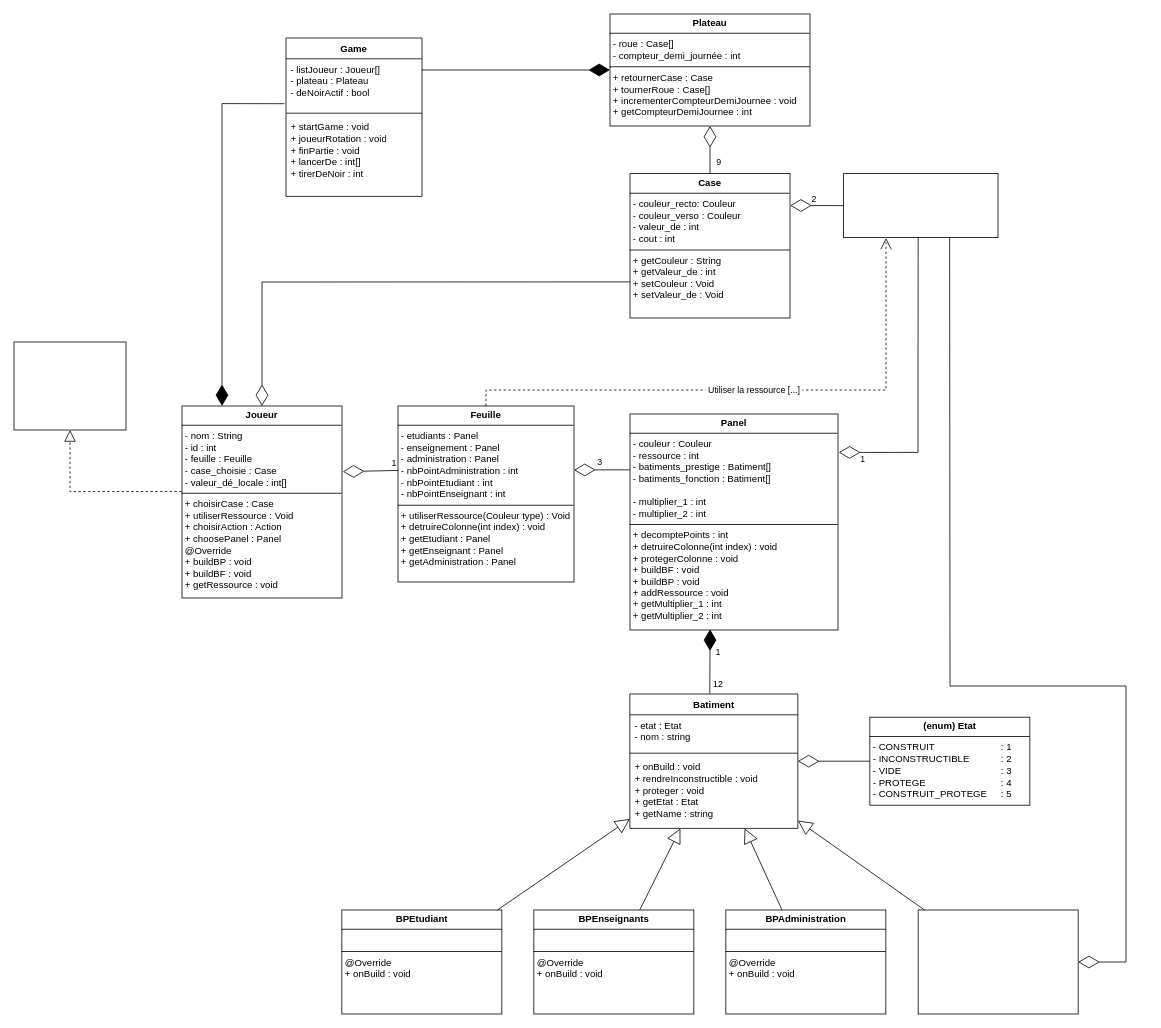
This 1161x1028 diagram has some shape labels left out. Here are the shapes that lost their labels. From the top down, the centre of each, then its label:
pixel 920 205: (enum) Couleur - ROUGE : 1 - JAUNE : 2 - BLANC : 3
pixel 69 385: Action + buildBP :void + buildBF : void + getRessource : void
pixel 997 961: BatimentFonction - couleur : Couleur @Override + onBuild : void
